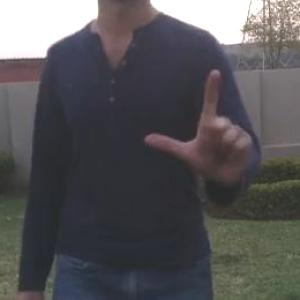land_hand: (142, 61, 264, 192)
